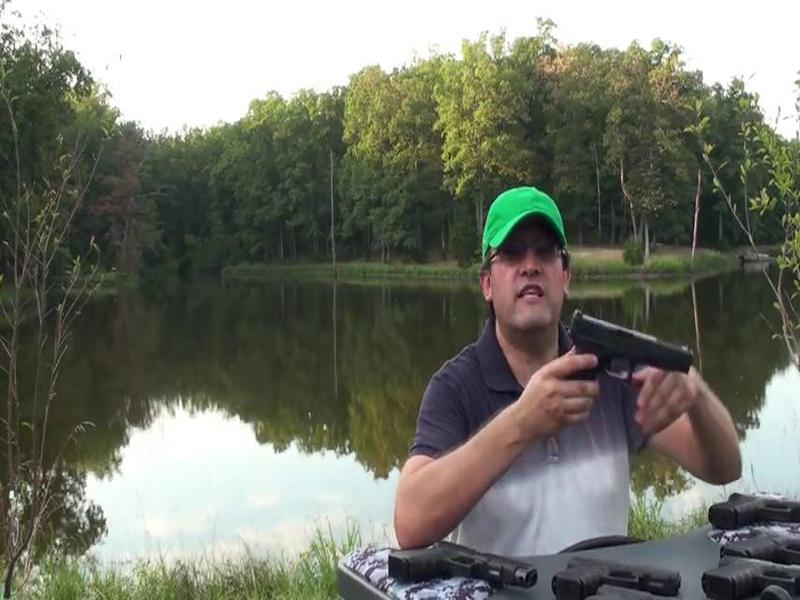Pistola: (554, 296, 700, 414), (377, 533, 538, 589), (549, 547, 681, 600)
